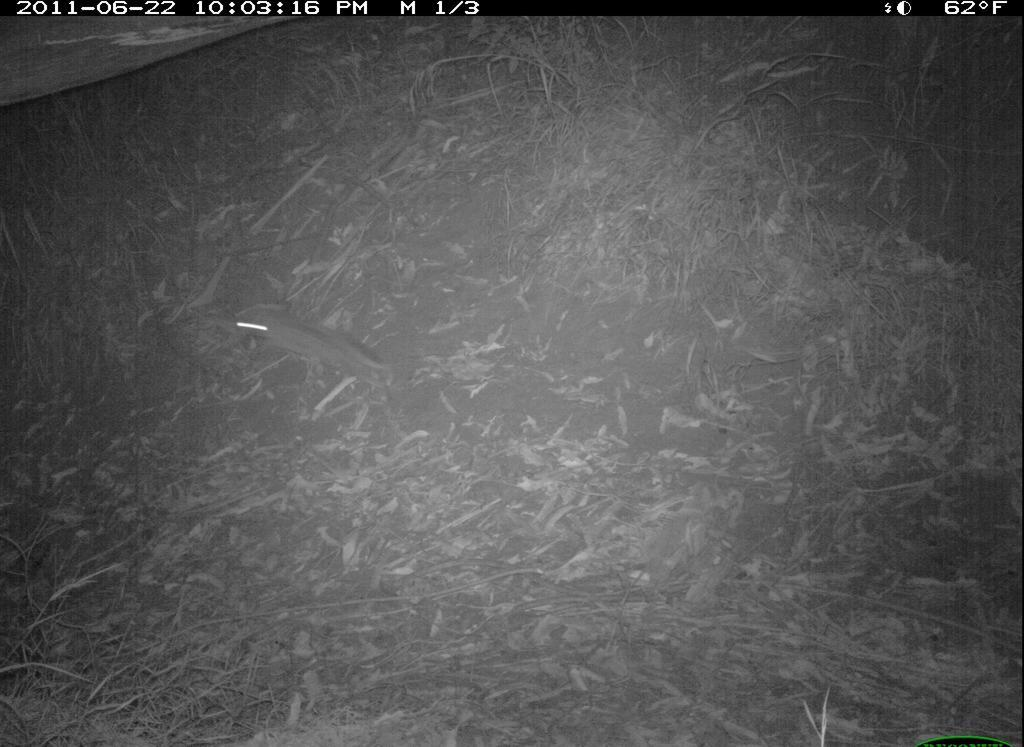rabbit: (218, 282, 395, 392)
